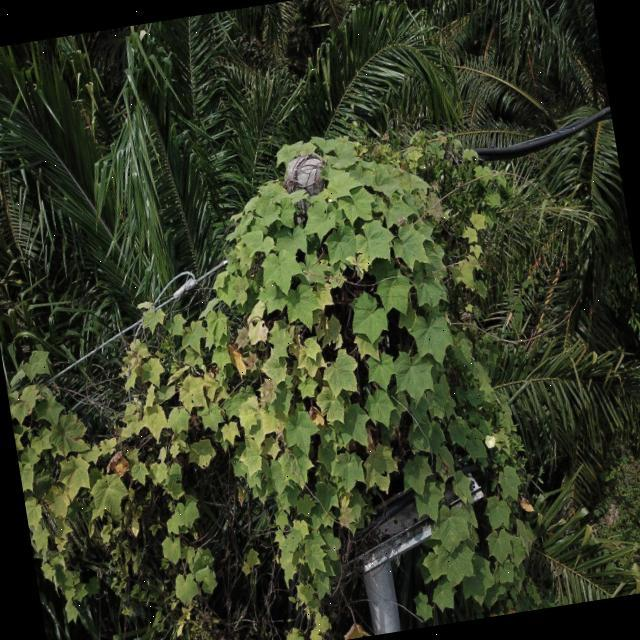critical vegetation: (131, 106, 542, 591)
